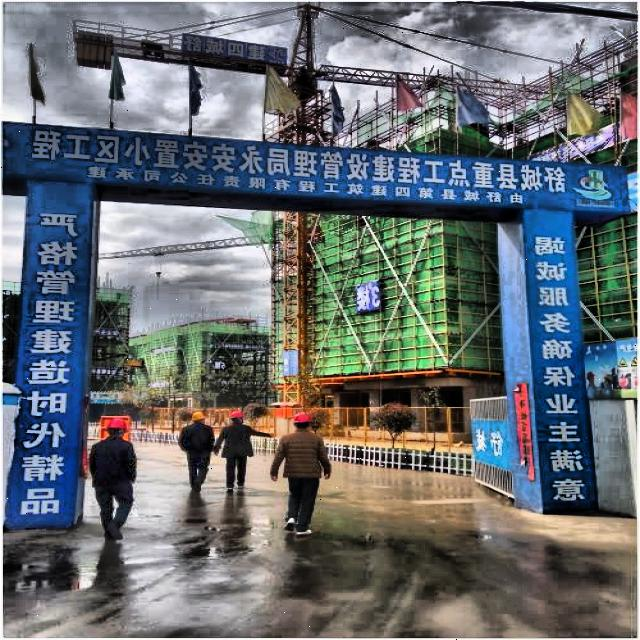helmet: (102, 414, 130, 444), (288, 409, 318, 433), (184, 410, 208, 428), (228, 407, 247, 429)
